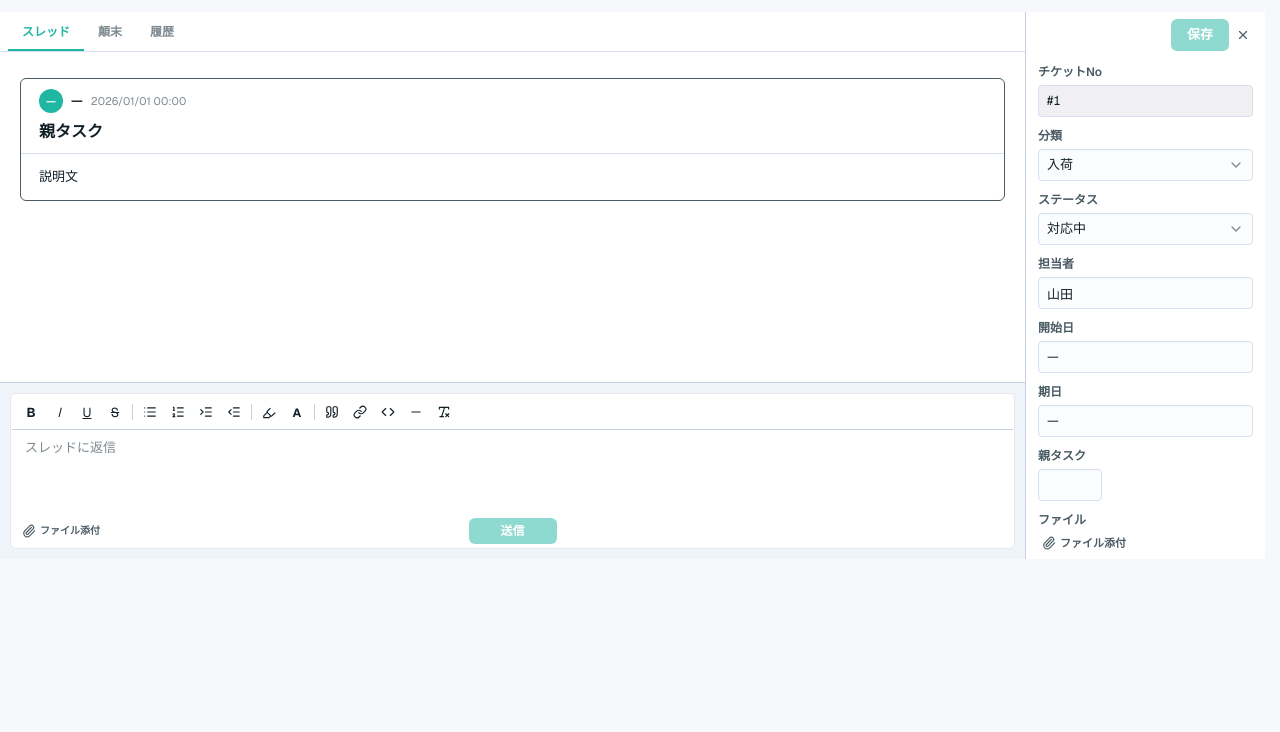
Test: TaskDetailOverlay — 保存ボタン dirty ガード（dsk-0210） › フォームのステータスを変更すると保存ボタンが活性化すること
Expected: the button "保存" is disabled, [1171, 19, 1229, 51]
Step 1. Click the button with aria-label "ステータス" → (1146, 229), box [1038, 213, 1253, 245]
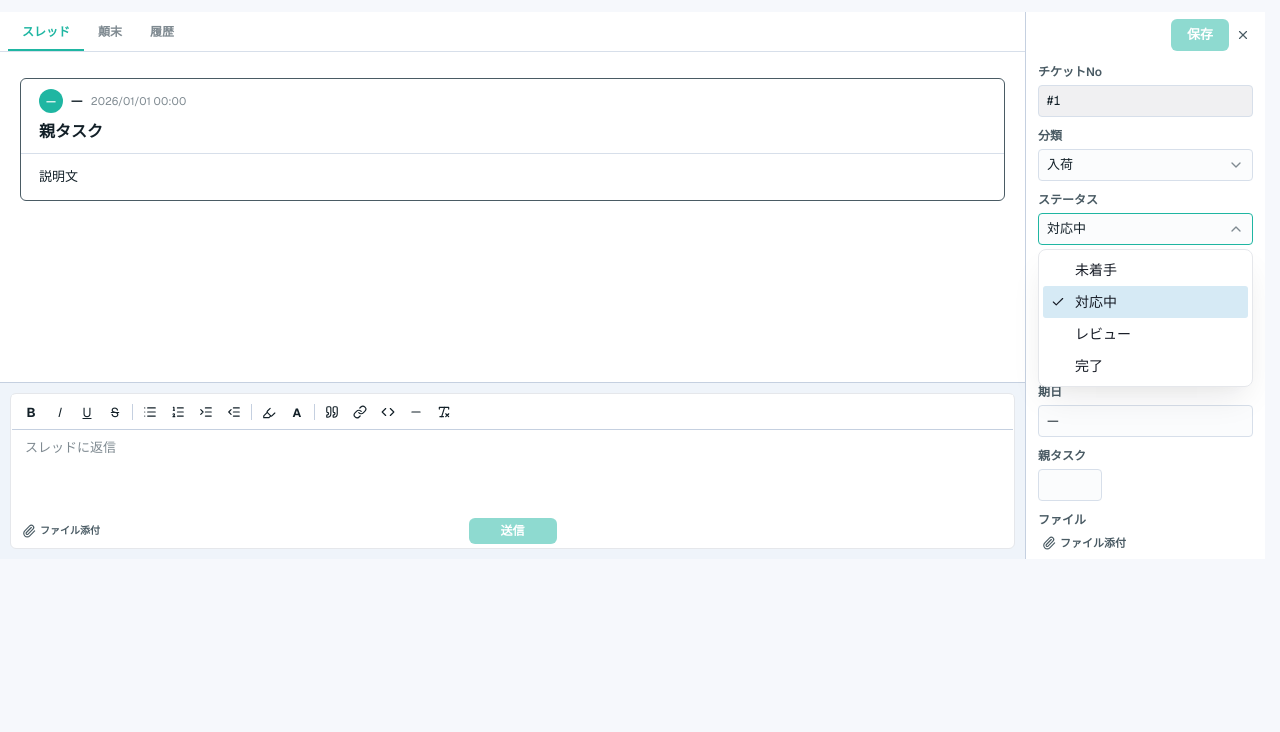
Step 2. Click the option "完了" → (1089, 366), box [1075, 357, 1103, 375]
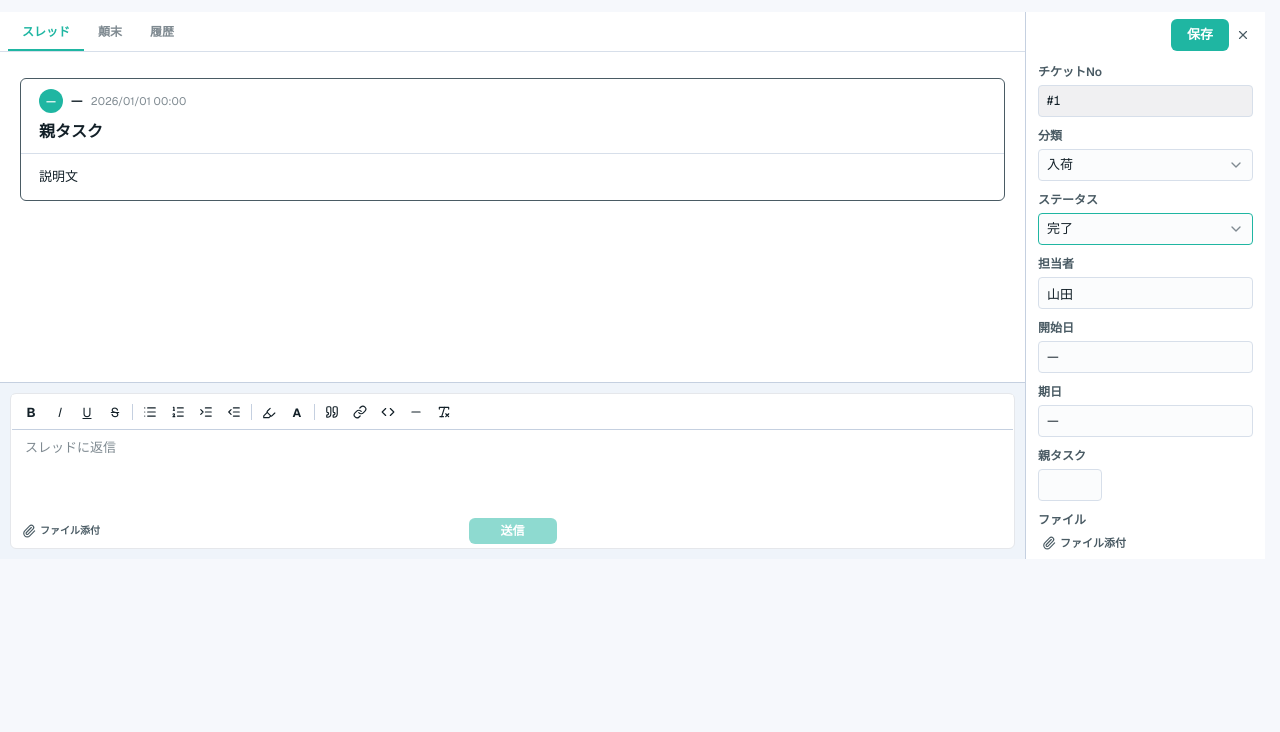
Expected: the button "保存" is enabled, [1171, 19, 1229, 51]
